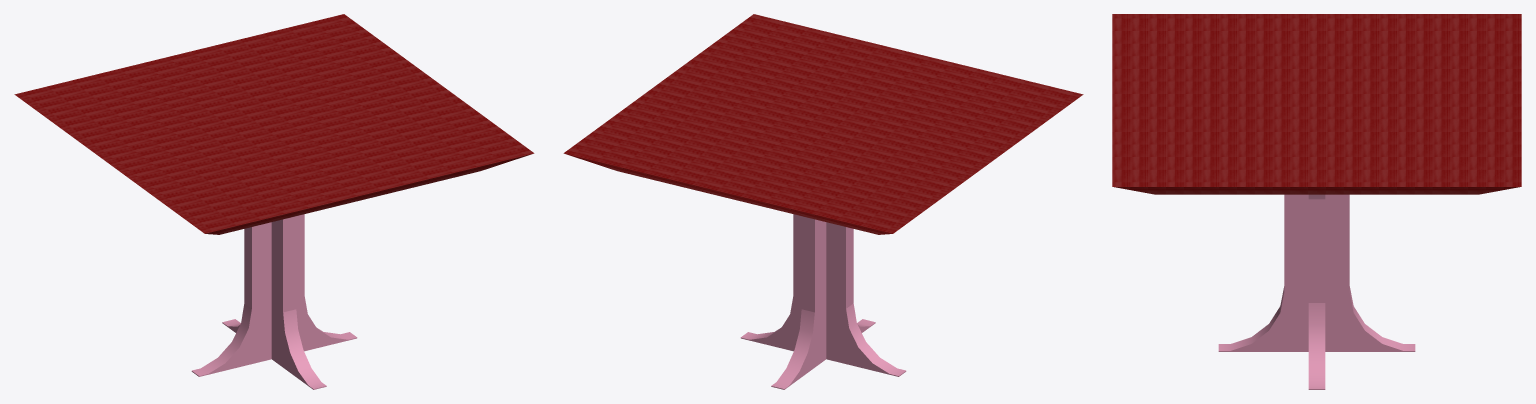
Rendered from Table.obj.
The picture shows the model from 3 angles, left to right: view 1: azimuth 30°, elevation 25°; view 2: azimuth 150°, elevation 25°; view 3: azimuth 270°, elevation 25°; orthographic projection. The views are drawn at different scales.
Parts seen in each view (by area): view 1: TableTop, Support, Support001; view 2: TableTop, Support, Support001; view 3: TableTop, Support001, Support.
Boxes of the visible parts, x1=… form: TableTop: x1=14, y1=14, x2=534, y2=234; Support: x1=191, y1=214, x2=357, y2=376; Support001: x1=222, y1=216, x2=326, y2=389; TableTop: x1=563, y1=14, x2=1083, y2=234; Support: x1=740, y1=214, x2=906, y2=376; Support001: x1=771, y1=216, x2=875, y2=389; TableTop: x1=1112, y1=14, x2=1521, y2=194; Support001: x1=1218, y1=194, x2=1415, y2=351; Support: x1=1308, y1=194, x2=1325, y2=389.
Size of the model in its own units: 25 by 16.73 by 25.
Materials: 2 (1 with a texture image).
